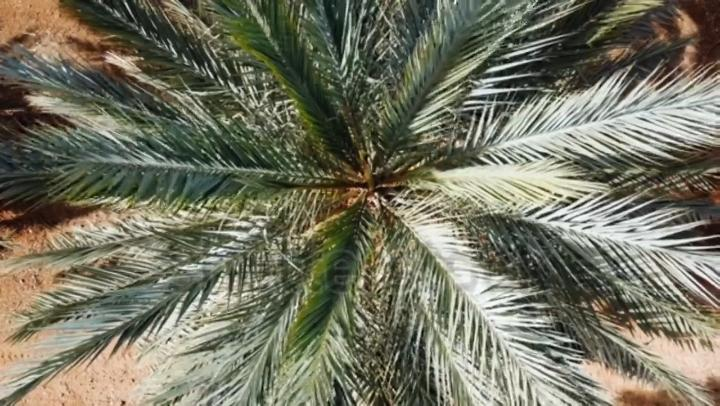Date-Palm-Crown: (179, 20, 566, 344)
